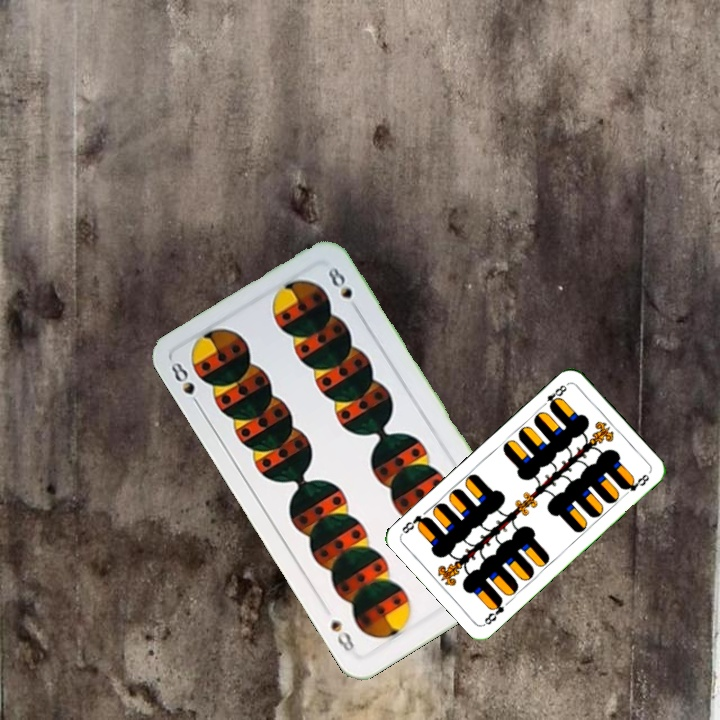E8: (537, 380, 571, 411), (480, 594, 507, 628)
S8: (166, 357, 204, 412)
